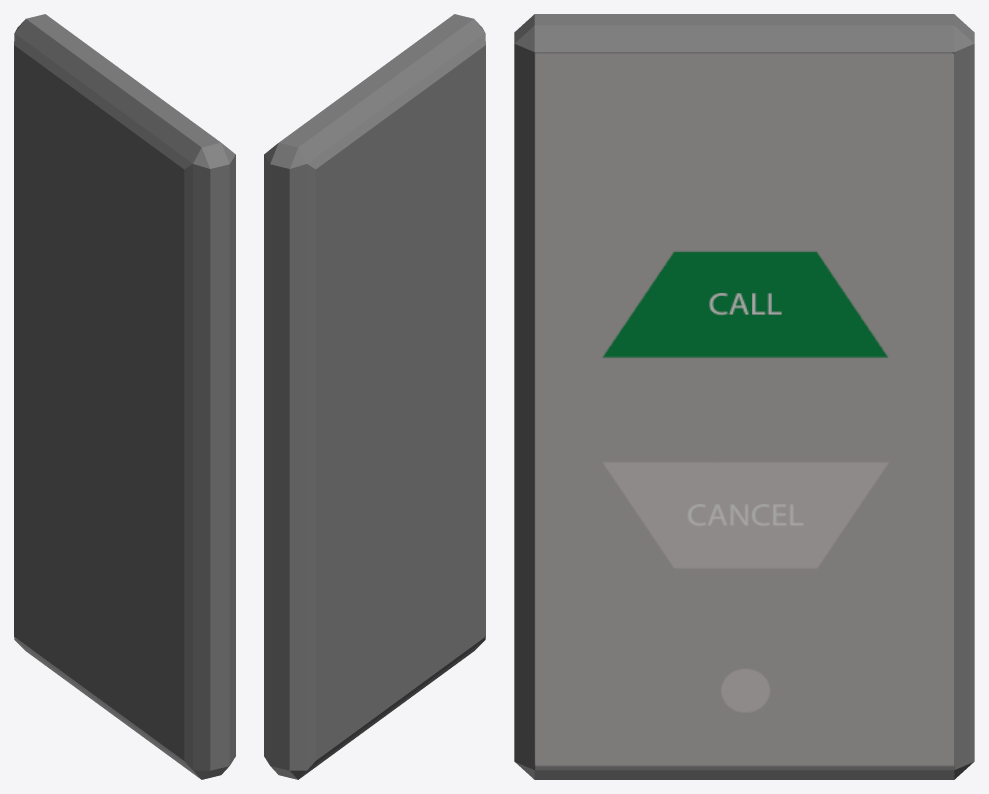
File: Call Button.fbx
The picture shows the model from 3 angles, left to right: view 1: azimuth 30°, elevation 25°; view 2: azimuth 150°, elevation 25°; view 3: azimuth 270°, elevation 25°; orthographic projection. The views are drawn at different scales.
Parts seen in each view (by area): view 1: Cube; view 2: Cube; view 3: Cube.
Boxes of the visible parts, x1,y1,x2,y2 form: Cube: [14, 14, 235, 779]; Cube: [264, 14, 485, 779]; Cube: [514, 14, 974, 779].
Bounding box in the file's own units: 1.4 × 17.29 × 9.55.
Materials: 1 (1 with a texture image).
